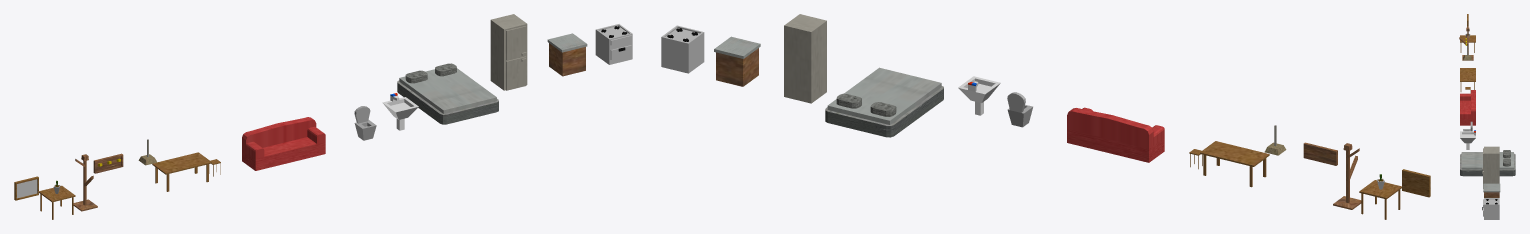
The model's file is asetps1MODELS.fbx.
3 views of the same model, side by side, from view 1: azimuth 30°, elevation 25°; view 2: azimuth 150°, elevation 25°; view 3: azimuth 270°, elevation 25° (orthographic). The views are drawn at different scales.
Visible parts, largest first — view 1: Cube.013, Cube.009, Cube.014, Cube.015, Cube.016, Cube.007, Cube.012, Cube.011, Cube.004, Cube.005, Cube, Cube.001; view 2: Cube.013, Cube.009, Cube.014, Cube.015, Cube.016, Cube.007, Cube.012, Cube.004, Cube.011, Cube.005, Cube, Cube.001; view 3: Cube.013, Cube.014, Cube.009, Cube.016, Cube.015, Cube.007, Cube.012, Cube.004, Cube, Cube.006, Cube.011.
Boxes of the visible parts, left/top/right/bottom form: Cube.013: left=397, top=63, right=498, bottom=124; Cube.009: left=242, top=117, right=325, bottom=170; Cube.014: left=490, top=14, right=527, bottom=90; Cube.015: left=547, top=33, right=587, bottom=76; Cube.016: left=595, top=24, right=632, bottom=64; Cube.007: left=152, top=152, right=211, bottom=191; Cube.012: left=382, top=93, right=418, bottom=130; Cube.011: left=354, top=106, right=376, bottom=140; Cube.004: left=39, top=180, right=75, bottom=219; Cube.005: left=14, top=176, right=38, bottom=200; Cube: left=73, top=154, right=97, bottom=211; Cube.001: left=93, top=153, right=123, bottom=173; Cube.013: left=825, top=67, right=943, bottom=137; Cube.009: left=1067, top=107, right=1164, bottom=162; Cube.014: left=784, top=14, right=826, bottom=103; Cube.015: left=714, top=36, right=760, bottom=86; Cube.016: left=661, top=25, right=704, bottom=73; Cube.007: left=1200, top=141, right=1269, bottom=187; Cube.012: left=958, top=76, right=1000, bottom=115; Cube.004: left=1359, top=174, right=1401, bottom=219; Cube.011: left=1007, top=92, right=1032, bottom=127; Cube.005: left=1402, top=169, right=1430, bottom=197; Cube: left=1333, top=143, right=1361, bottom=209; Cube.001: left=1303, top=142, right=1337, bottom=165; Cube.013: left=1460, top=150, right=1515, bottom=176; Cube.014: left=1482, top=146, right=1499, bottom=188; Cube.009: left=1460, top=90, right=1475, bottom=125; Cube.016: left=1482, top=198, right=1499, bottom=219; Cube.015: left=1483, top=183, right=1500, bottom=197; Cube.007: left=1460, top=68, right=1475, bottom=91; Cube.012: left=1460, top=130, right=1475, bottom=149; Cube.004: left=1460, top=33, right=1475, bottom=52; Cube: left=1459, top=26, right=1473, bottom=60; Cube.006: left=1463, top=45, right=1471, bottom=60; Cube.011: left=1463, top=121, right=1472, bottom=131.
Size of the model in its own units: 5400 by 500 by 709.
